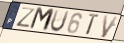6: (66, 12, 82, 35)
M: (28, 6, 56, 32)
T: (85, 13, 101, 36)
U: (49, 9, 71, 33)
V: (101, 15, 120, 39)
Z: (15, 7, 37, 29)
